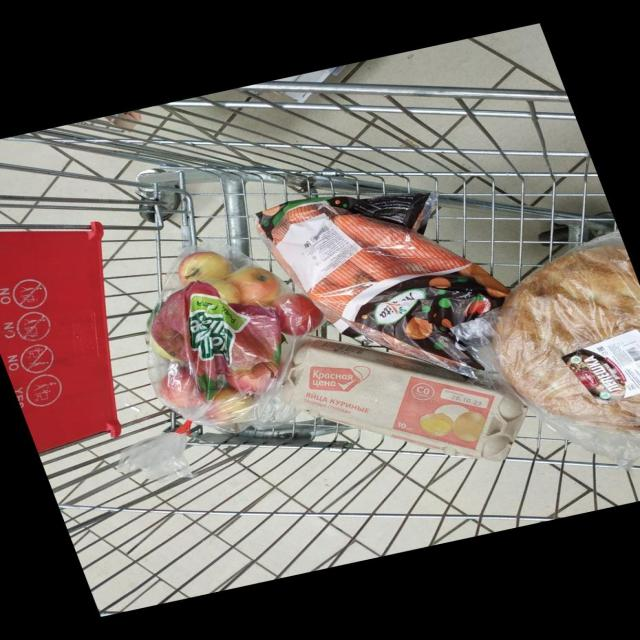apple: (131, 198, 375, 594), (142, 181, 403, 543), (155, 145, 434, 441), (141, 138, 396, 404), (101, 187, 275, 551), (96, 138, 310, 426), (120, 134, 332, 385)
carrot: (197, 138, 602, 405), (233, 135, 640, 396), (160, 136, 493, 419), (176, 149, 498, 431), (146, 114, 469, 327), (136, 122, 414, 365)
egg: (123, 195, 453, 616)
